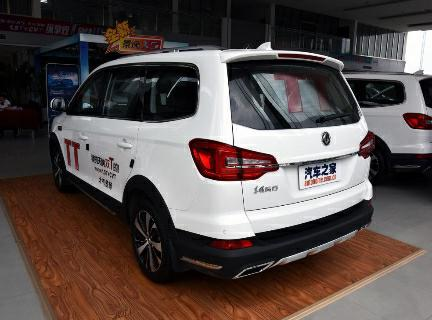东风风行-景逸X6: (36, 45, 384, 297)
